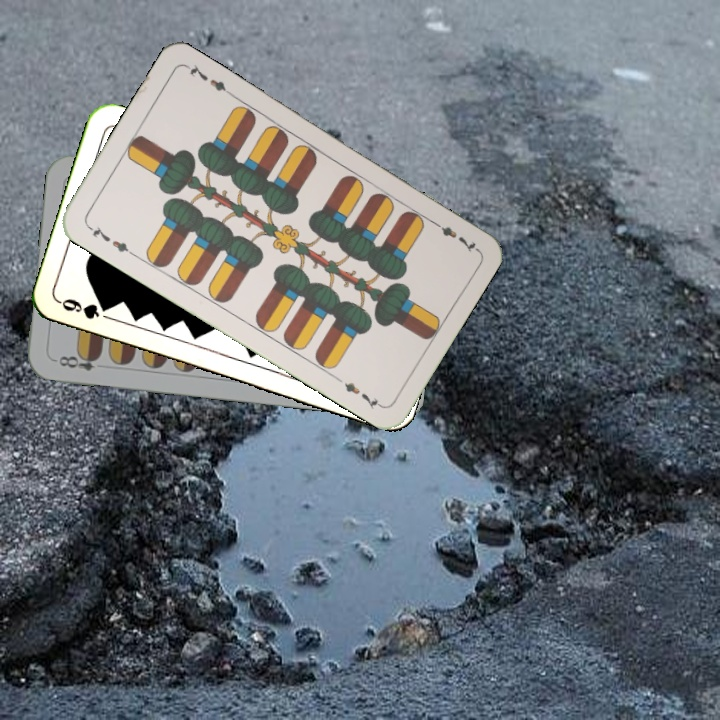E7: (426, 216, 480, 255), (83, 221, 136, 258)
E8: (50, 349, 103, 373)
G9: (55, 294, 112, 322)
